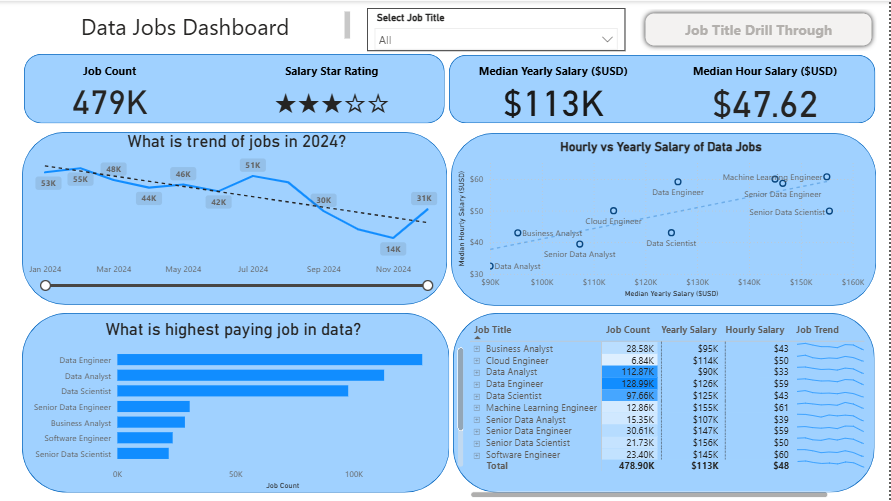

What the dashboard file says about the page in this screenshot:
{"tool":"powerbi","page":{"name":"Data Jobs Dashboard","canvas":[1280,720],"ordinal":0},"visuals":[{"type":"group","id":"g1","title":"Background","box":[33,77,1241.6,625],"z":500},{"type":"slicer","fields":{"Values":["job_postings_flat.job_title_short"]},"box":[528.7,9.8,371.6,62.2],"z":1000},{"type":"cardVisual","fields":{"Data":["CountNonNull(job_postings_flat.job_title)"]},"box":[0,72,316.8,103.7],"z":2000},{"type":"cardVisual","fields":{"Data":["job_postings_flat.Salary Star Rating"]},"box":[316.8,72,322.6,103.7],"z":3000},{"type":"cardVisual","fields":{"Data":["Median(job_postings_flat.salary_year_avg)"]},"box":[652.3,72,289.4,103.7],"z":4000},{"type":"cardVisual","fields":{"Data":["Median(job_postings_flat.salary_hour_avg)"]},"box":[941.2,72,320.8,103.1],"z":5000},{"type":"lineChart","title":"What is trend of jobs in  2024?","fields":{"Y":["CountNonNull(job_postings_flat.job_title_short)"],"Category":["job_postings_flat.job_posted_date.Variation.Date Hierarchy.Year","job_postings_flat.job_posted_date.Variation.Date Hierarchy.Quarter","job_postings_flat.job_posted_date.Variation.Date Hierarchy.Month","job_postings_flat.job_posted_date.Variation.Date Hierarchy.Day"]},"box":[35.4,194.2,605.2,232.4],"z":6000},{"type":"barChart","title":"What is highest paying job in data?","fields":{"Category":["job_postings_flat.job_title_short"],"Y":["CountNonNull(job_postings_flat.job_title_short)"]},"box":[0,445.3,639,257.3],"z":7000},{"type":"scatterChart","title":"Hourly vs Yearly Salary  of Data Jobs","fields":{"X":["Median(job_postings_flat.salary_year_avg)"],"Y":["Median(job_postings_flat.salary_hour_avg)"],"Series":["job_postings_flat.job_title_short"]},"box":[653.5,183.6,607.2,254.5],"z":8000},{"type":"pivotTable","fields":{"Rows":["job_postings_flat.job_title_short","job_postings_flat.job_posted_date.Variation.Date Hierarchy.Quarter"],"Values":["CountNonNull(job_postings_flat.job_title_short)","Median(job_postings_flat.salary_year_avg)","Median(job_postings_flat.salary_hour_avg)","SparklineData(CountNonNull(job_postings_flat.job_title_short)_[job_postings_flat.job_posted_date.Variation.Date Hierarch"]},"box":[673.7,459.8,588.4,260.2],"z":9000},{"type":"actionButton","box":[921.6,10.1,341.3,61.9],"z":10000},{"type":"textbox","box":[53.9,9.9,447.9,62.4],"z":11000},{"type":"shape","box":[33,184.7,608,253.7],"z":15125,"group":"g1"},{"type":"shape","box":[649.6,183.3,623.6,255.1],"z":15250,"group":"g1"},{"type":"shape","box":[33,446.8,608,255.1],"z":15500,"group":"g1"},{"type":"shape","box":[649.6,78.4,625,97.8],"z":16000,"group":"g1"},{"type":"shape","box":[649.6,446.8,625,255.1],"z":16250,"group":"g1"},{"type":"shape","box":[33,77,608,99.2],"z":16500,"group":"g1"}]}

Visuals, with their boxes in screenshot pixels (x1, y1, x2, y2), scaled from the page's 1280x720 canvas onto the 891x501 screenshot:
"Background" group: (x1=23, y1=54, x2=887, y2=488)
slicer - job_postings_flat.job_title_short: (x1=368, y1=7, x2=627, y2=50)
cardVisual - CountNonNull(job_postings_flat.job_title): (x1=0, y1=50, x2=221, y2=122)
cardVisual - job_postings_flat.Salary Star Rating: (x1=221, y1=50, x2=445, y2=122)
cardVisual - Median(job_postings_flat.salary_year_avg): (x1=454, y1=50, x2=656, y2=122)
cardVisual - Median(job_postings_flat.salary_hour_avg): (x1=655, y1=50, x2=878, y2=122)
"What is trend of jobs in  2024?" lineChart: (x1=25, y1=135, x2=446, y2=297)
"What is highest paying job in data?" barChart: (x1=0, y1=310, x2=445, y2=489)
"Hourly vs Yearly Salary  of Data Jobs" scatterChart: (x1=455, y1=128, x2=878, y2=305)
pivotTable - job_postings_flat.job_title_short x job_postings_flat.job_posted_date.Variation.Date Hierarchy.Quarter: (x1=469, y1=320, x2=879, y2=500)
actionButton: (x1=642, y1=7, x2=879, y2=50)
textbox: (x1=38, y1=7, x2=349, y2=50)
shape: (x1=23, y1=129, x2=446, y2=305)
shape: (x1=452, y1=128, x2=886, y2=305)
shape: (x1=23, y1=311, x2=446, y2=488)
shape: (x1=452, y1=55, x2=887, y2=123)
shape: (x1=452, y1=311, x2=887, y2=488)
shape: (x1=23, y1=54, x2=446, y2=123)
